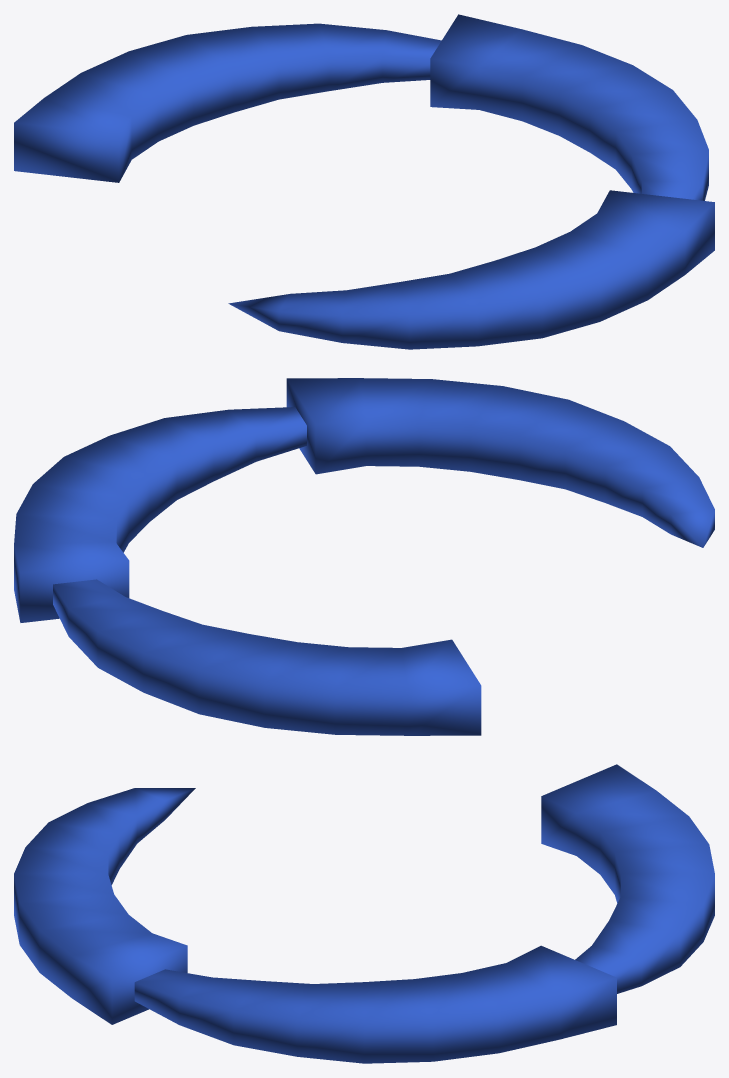
File: cira3.fbx
3 renders of one model, top to bottom at view 1: azimuth 30°, elevation 25°; view 2: azimuth 150°, elevation 25°; view 3: azimuth 270°, elevation 25°, orthographic. The views are drawn at different scales.
Visible parts, largest first — view 1: Cira-3; view 2: Cira-3; view 3: Cira-3.
Boxes of the visible parts, left/top/right/bottom form: Cira-3: left=14, top=14, right=714, bottom=349; Cira-3: left=14, top=378, right=714, bottom=735; Cira-3: left=14, top=764, right=714, bottom=1063.
Size of the model in its own units: 1.69 by 0.1468 by 1.96.
